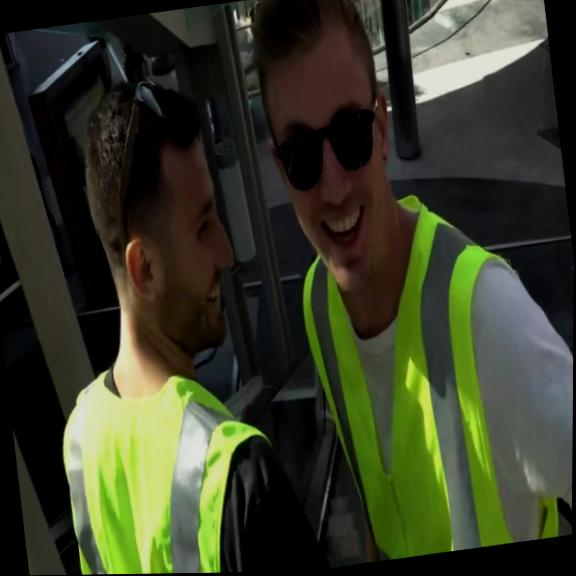safety_vest: (287, 179, 563, 568), (52, 346, 288, 575)
